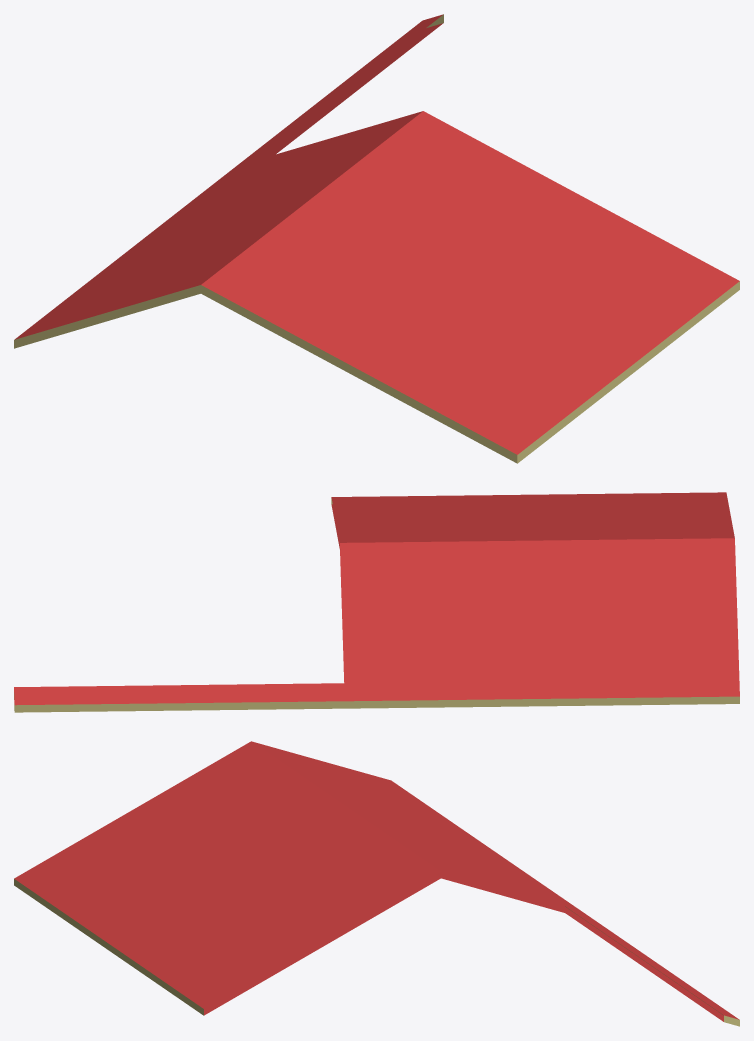
3 views of the same model, one above another, from view 1: azimuth 30°, elevation 25°; view 2: azimuth 150°, elevation 25°; view 3: azimuth 270°, elevation 25° (orthographic). The views are drawn at different scales.
Size of the model in its own units: 7.69 by 9.69 by 1.21.
